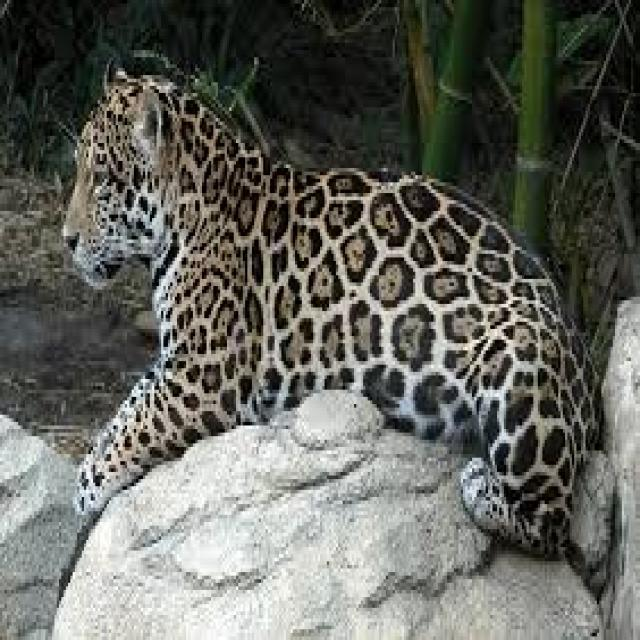Jaguar: (59, 68, 601, 547)
